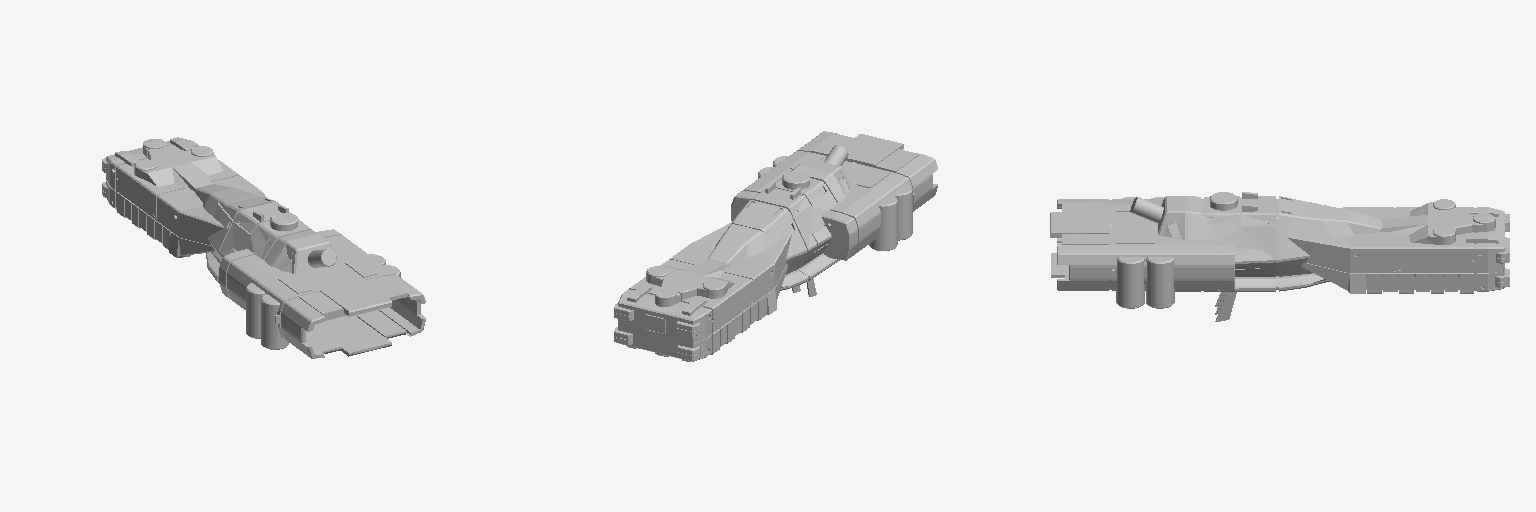
File: tfpa_01_transport_v4.obj
The picture shows the model from 3 angles: view 1: azimuth 30°, elevation 25°; view 2: azimuth 150°, elevation 25°; view 3: azimuth 270°, elevation 25°; orthographic projection.
Parts seen in each view (by area): view 1: jorodoxShape.002; view 2: jorodoxShape.002; view 3: jorodoxShape.002.
Part boxes in pixels (x1,y1,x2,y2): jorodoxShape.002: (102,137,425,358); jorodoxShape.002: (614,131,937,361); jorodoxShape.002: (1050,192,1509,321).
Bounding box in the file's own units: 75.81 × 62.66 × 222.